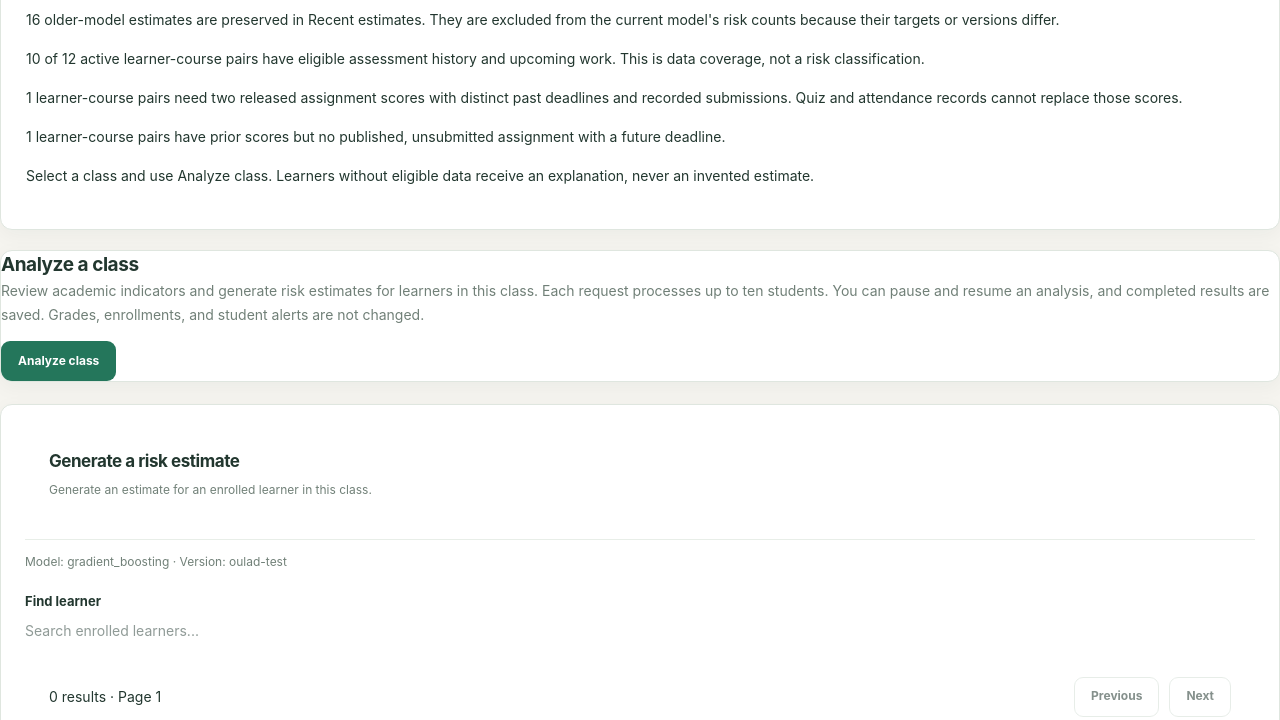
Test: enables the assigned teacher's class action and sends only the chosen course
(page scrolled)
Click the button "Analyze class": coordinates (59, 361) x1=1 y1=341 x2=116 y2=381
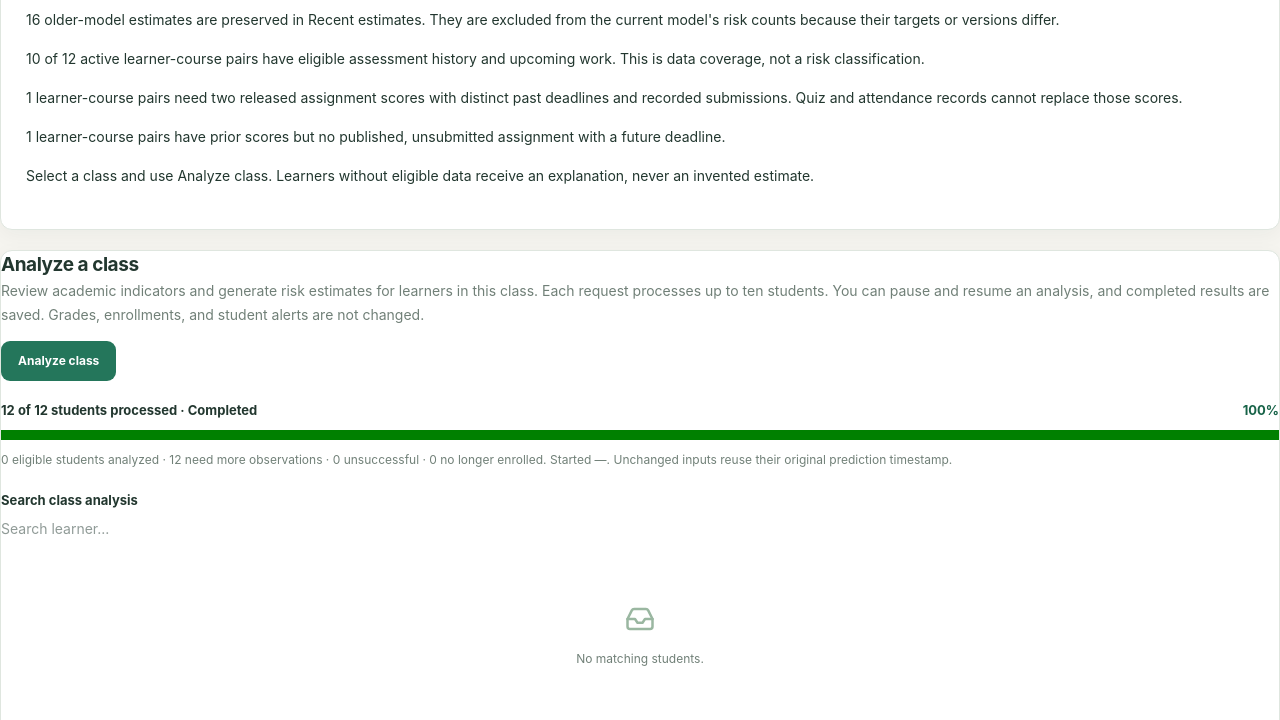
Expected: the text "12 of 12 students processed · Completed" is shown, x1=1 y1=401 x2=257 y2=420
